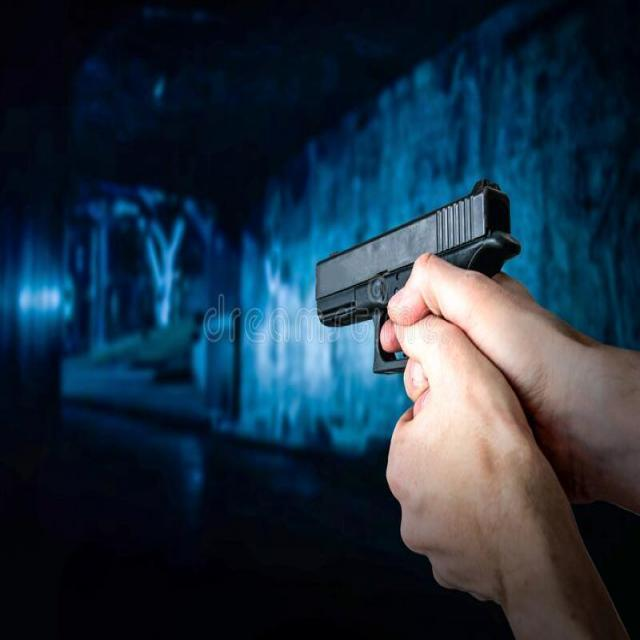Pistol: (311, 175, 536, 383)
